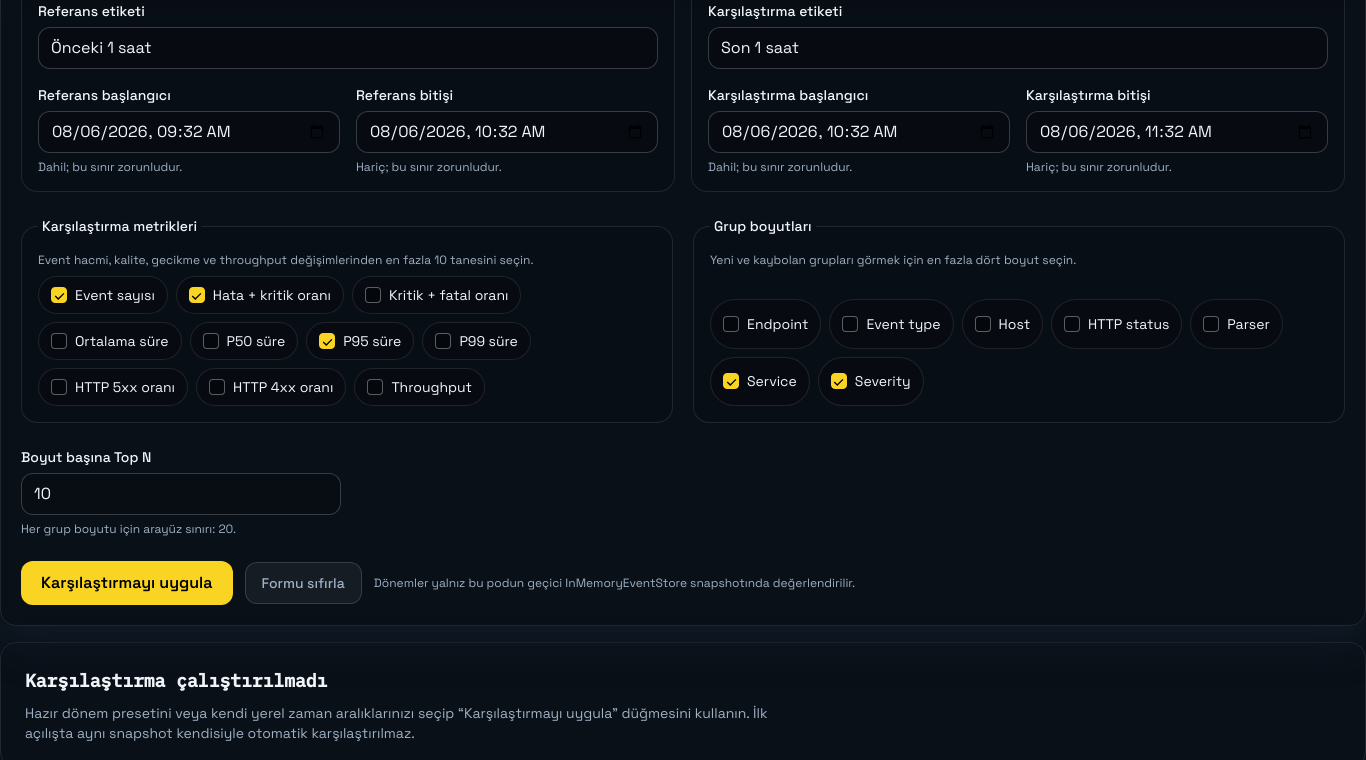
Test: ComparisonAnalysisPage › does not keep a stale ready result visible when refreshing the snapshot fails
This screenshot has width=1366, height=760.
(page scrolled)
Click the button "Karşılaştırmayı uygula" at (127, 583), box top-left (21, 561), bottom-right (232, 605)
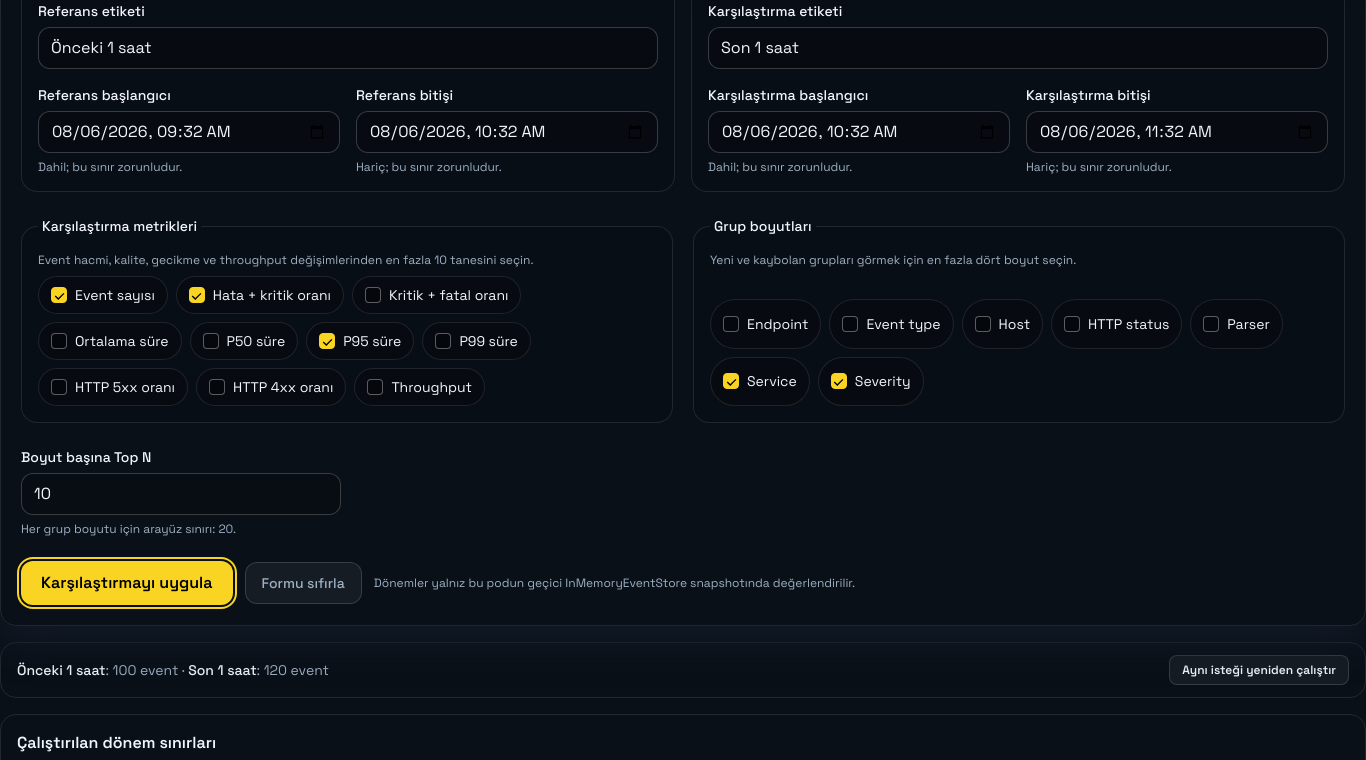
Click the button "Aynı isteği yeniden çalıştır" at (1259, 670), box top-left (1169, 655), bottom-right (1349, 685)
(page scrolled)
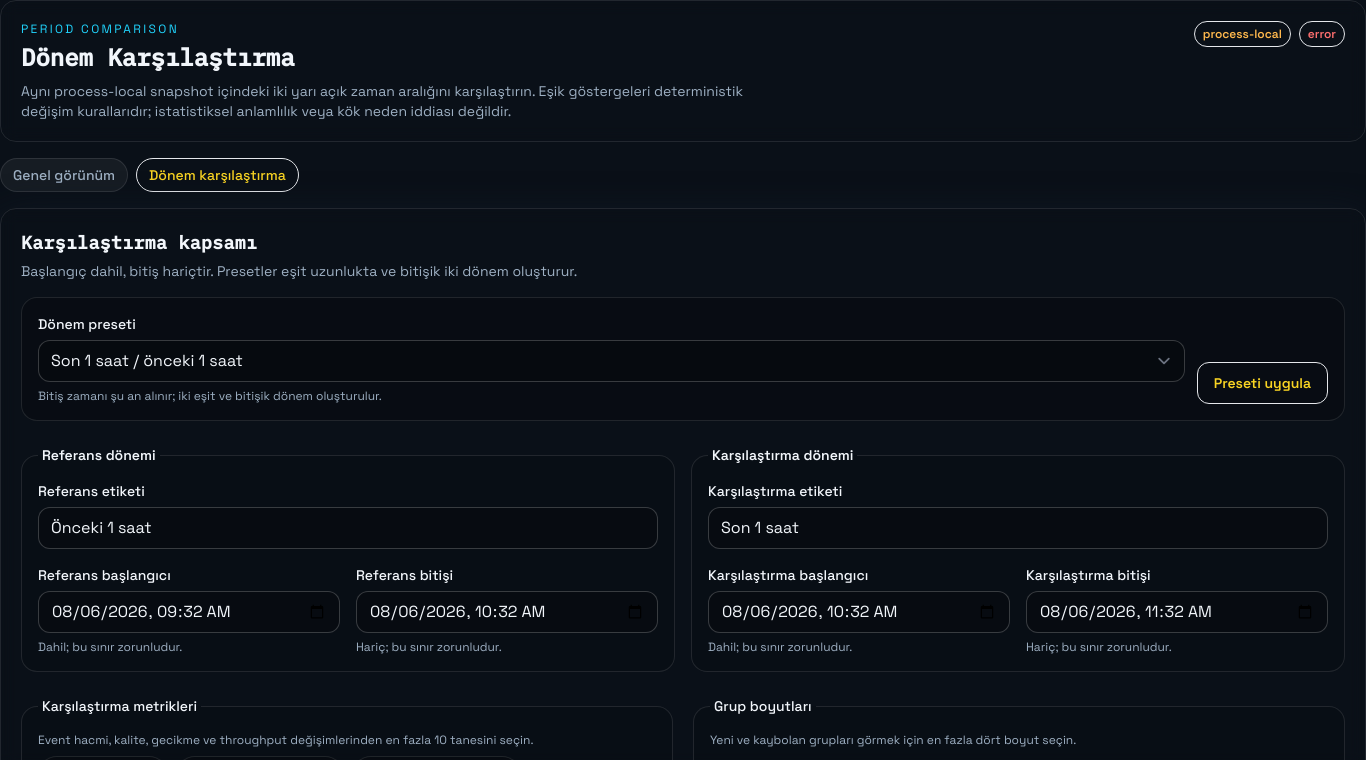
expect the text "error" is shown: met, box top-left (1299, 21), bottom-right (1345, 47)
